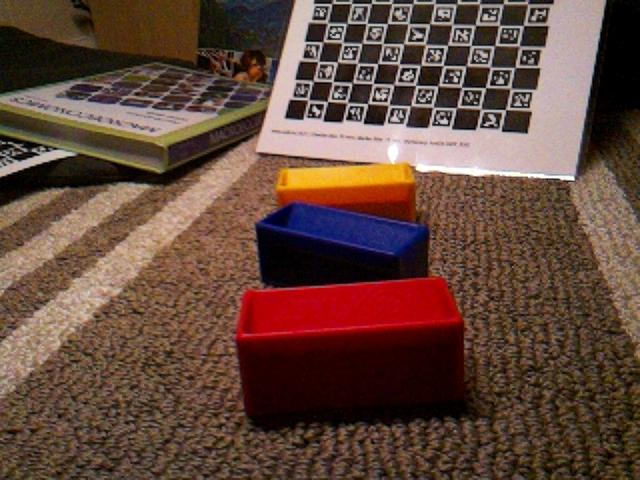blue: (254, 199, 431, 287)
red: (234, 275, 467, 424)
yellow: (275, 162, 418, 223)
